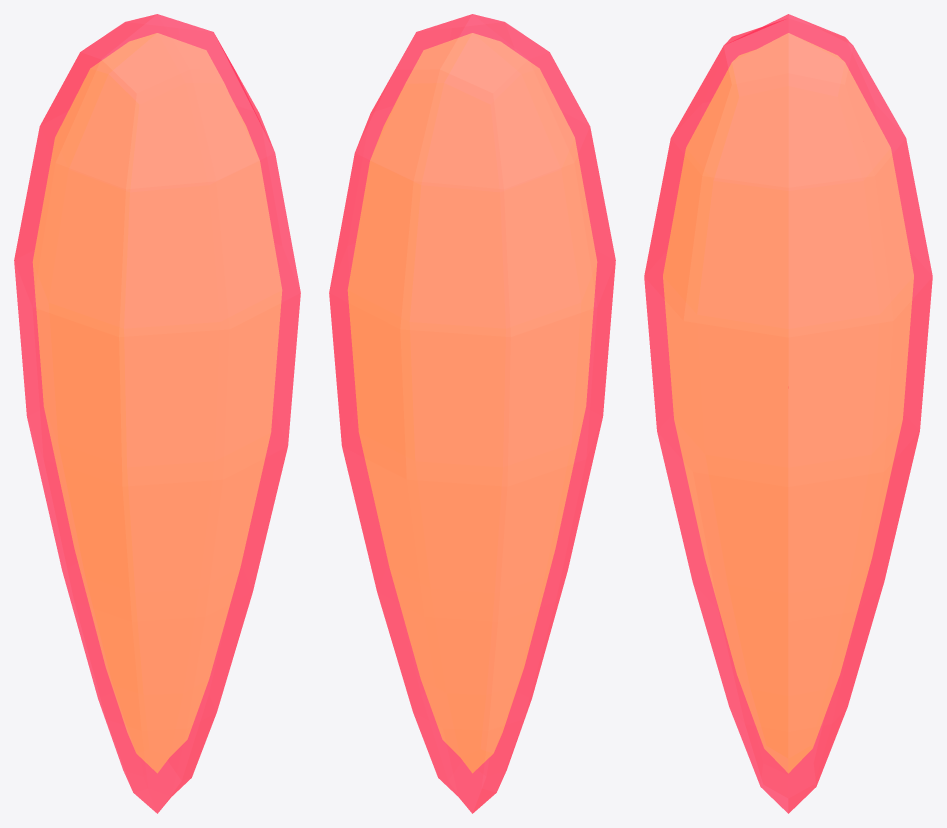
File: Tiro.fbx
The picture shows the model from 3 angles, left to right: view 1: azimuth 30°, elevation 25°; view 2: azimuth 150°, elevation 25°; view 3: azimuth 270°, elevation 25°; orthographic projection.
Parts seen in each view (by area): view 1: Cube; view 2: Cube; view 3: Cube.
Boxes of the visible parts, box(x1,y1,x2,y2) form: Cube: box(14, 14, 300, 813); Cube: box(329, 14, 615, 813); Cube: box(644, 14, 932, 813).
Size of the model in its own units: 172 by 525 by 172.
